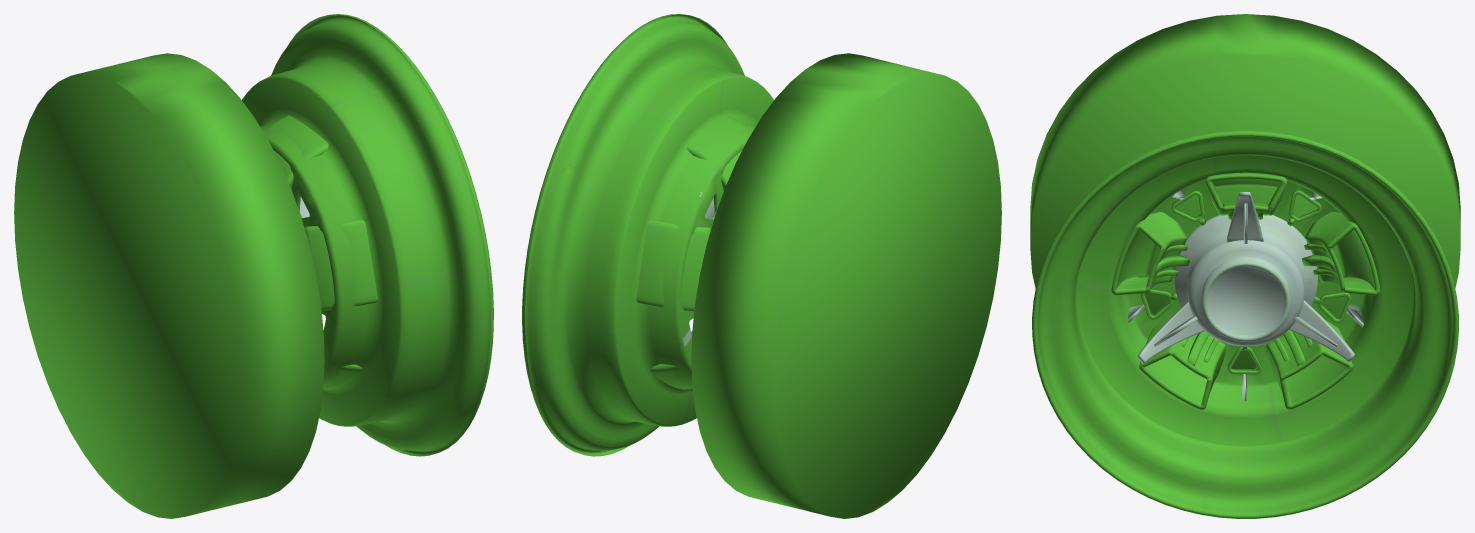
The picture shows the model from 3 angles, left to right: view 1: azimuth 30°, elevation 25°; view 2: azimuth 150°, elevation 25°; view 3: azimuth 270°, elevation 25°; orthographic projection. The views are drawn at different scales.
Parts seen in each view (by area): view 1: Flux; view 2: Flux; view 3: Flux.
Part boxes in pixels (x1=…): Flux: x1=14, y1=14, x2=493, y2=518; Flux: x1=522, y1=14, x2=1001, y2=518; Flux: x1=1030, y1=14, x2=1460, y2=518.
Size of the model in its own units: 0.7768 by 1.21 by 1.21.
Materials: 1 (1 with a texture image).
